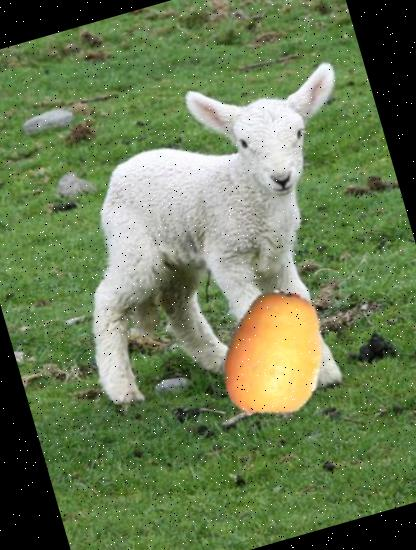Kumquats: (196, 276, 354, 434)
